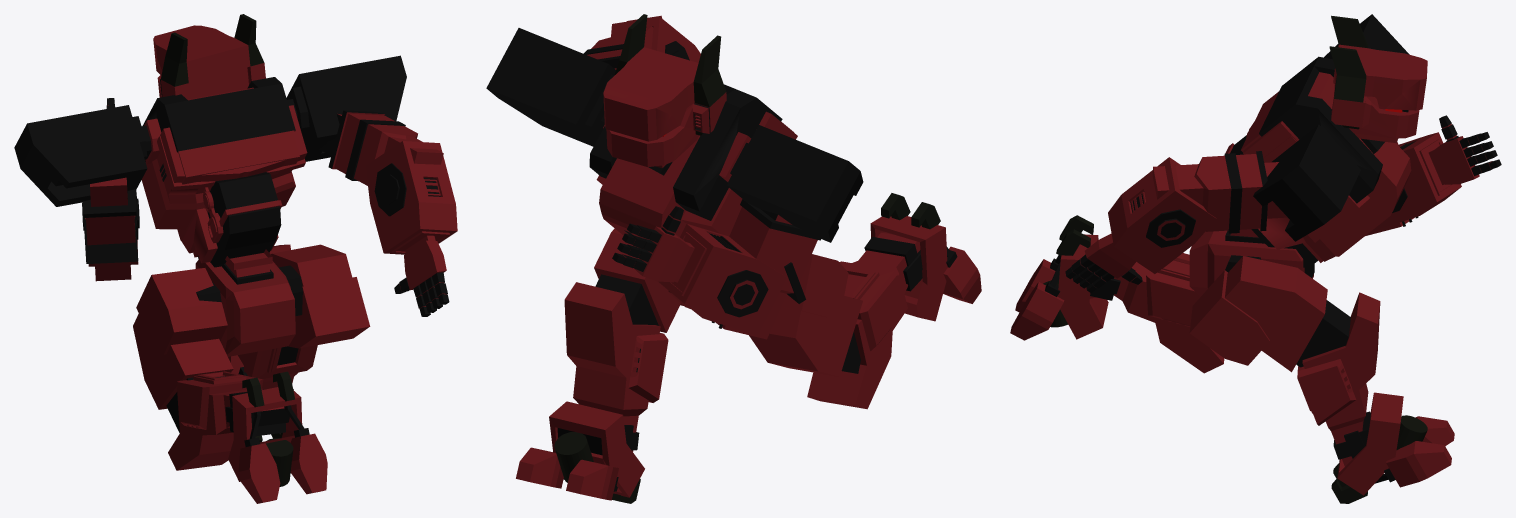
The model's file is walk3.obj.
The picture shows the model from 3 angles, left to right: view 1: azimuth 30°, elevation 25°; view 2: azimuth 150°, elevation 25°; view 3: azimuth 270°, elevation 25°; orthographic projection. The views are drawn at different scales.
Visible parts, largest first — view 1: R_UpperShoulder_Cube.030; view 2: R_UpperShoulder_Cube.030; view 3: R_UpperShoulder_Cube.030.
Part boxes in pixels (box(x1,y1,x2,y2)): R_UpperShoulder_Cube.030: box(14, 14, 457, 503); R_UpperShoulder_Cube.030: box(486, 14, 981, 503); R_UpperShoulder_Cube.030: box(1010, 14, 1501, 503).
Size of the model in its own units: 1.43 by 1.73 by 1.76.
